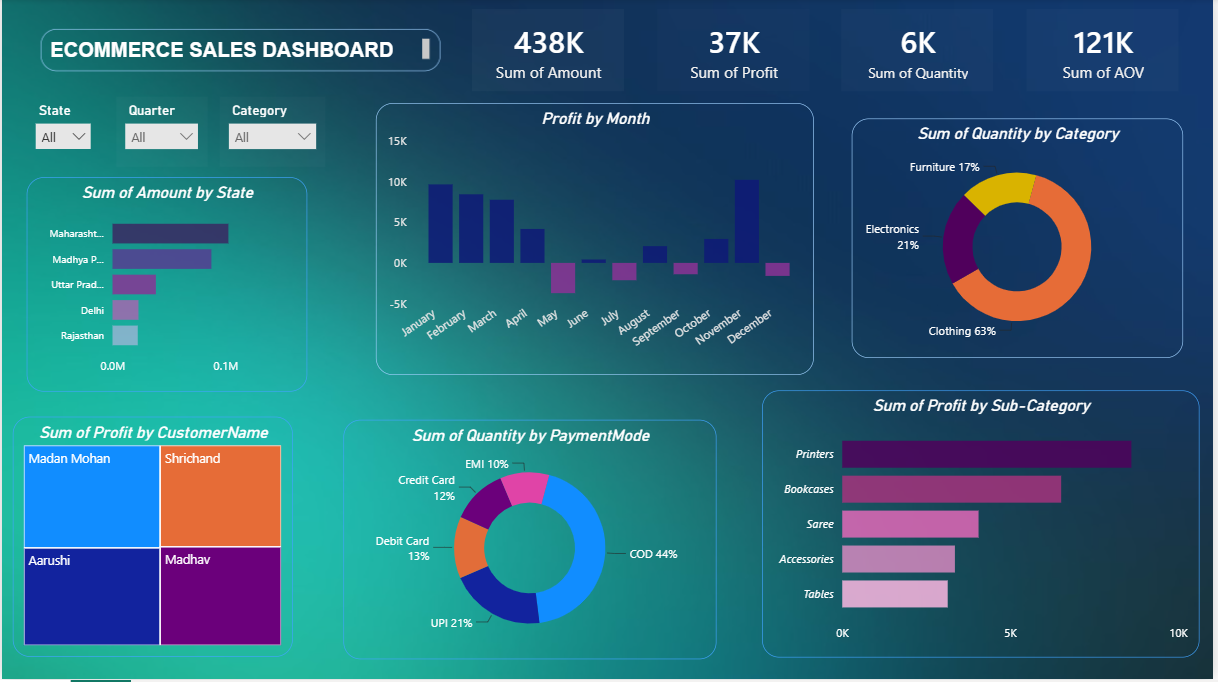

The dashboard page shown, as its layout file describes it:
{"tool":"powerbi","page":{"name":"Page 1","canvas":[1280,720],"ordinal":0},"visuals":[{"type":"textbox","box":[41.6,33.3,422.4,44.9],"z":0},{"type":"columnChart","title":"Profit  by Month","fields":{"Category":["Orders (2).Order Date.Variation.Date Hierarchy.Month"],"Y":["Sum(Details.Profit)"]},"box":[395.2,111.3,462.9,287.1],"z":1000},{"type":"barChart","fields":{"Category":["Details.Sub-Category"],"Y":["Sum(Details.Profit)"]},"box":[803.3,414.7,462.1,282.5],"z":2000},{"type":"donutChart","fields":{"Category":["Details.Category"],"Y":["Sum(Details.Quantity)"]},"box":[898.4,127.4,350,253.2],"z":3000},{"type":"donutChart","fields":{"Category":["Details.PaymentMode"],"Y":["Sum(Details.Quantity)"]},"box":[360.4,445.3,394.3,252.8],"z":4000},{"type":"cardVisual","fields":{"Data":["Sum(Details.Amount)"]},"box":[491.4,6.5,171.4,98],"z":5000},{"type":"cardVisual","fields":{"Data":["Sum(Details.Profit)"]},"box":[687.4,6.5,171.4,98],"z":6000},{"type":"cardVisual","fields":{"Data":["Sum(Details.Quantity)"]},"box":[881.7,6.5,171.4,98],"z":7000},{"type":"cardVisual","fields":{"Data":["Sum(Details.AOV)"]},"box":[1077.6,6.5,171.4,98],"z":8000},{"type":"slicer","fields":{"Values":["Details.Category"]},"box":[230.2,103.8,111.3,73.6],"z":9000},{"type":"barChart","fields":{"Category":["Orders (2).State"],"Y":["Sum(Details.Amount)"]},"box":[26.4,188.7,296.2,226.4],"z":10000},{"type":"treemap","fields":{"Group":["Orders (2).CustomerName"],"Values":["Sum(Details.Profit)"]},"box":[11,443,296,254],"z":11000},{"type":"slicer","fields":{"Values":["Orders (2).State"]},"box":[26.4,103.8,77.4,73.6],"z":12000},{"type":"slicer","fields":{"Values":["Orders (2).Order Date.Variation.Date Hierarchy.Quarter"]},"box":[120.8,103.8,96.2,73.6],"z":13000}]}

Visuals, with their boxes in screenshot pixels (x1, y1, x2, y2), scaled from the page's 1280x720 canvas onto the 1218x682 screenshot:
textbox: [x1=40, y1=32, x2=442, y2=74]
"Profit  by Month" columnChart: [x1=376, y1=105, x2=817, y2=377]
barChart - Details.Sub-Category x Sum(Details.Profit): [x1=764, y1=393, x2=1204, y2=660]
donutChart - Details.Category x Sum(Details.Quantity): [x1=855, y1=121, x2=1188, y2=361]
donutChart - Details.PaymentMode x Sum(Details.Quantity): [x1=343, y1=422, x2=718, y2=661]
cardVisual - Sum(Details.Amount): [x1=468, y1=6, x2=631, y2=99]
cardVisual - Sum(Details.Profit): [x1=654, y1=6, x2=817, y2=99]
cardVisual - Sum(Details.Quantity): [x1=839, y1=6, x2=1002, y2=99]
cardVisual - Sum(Details.AOV): [x1=1025, y1=6, x2=1189, y2=99]
slicer - Details.Category: [x1=219, y1=98, x2=325, y2=168]
barChart - Orders (2).State x Sum(Details.Amount): [x1=25, y1=179, x2=307, y2=393]
treemap - Orders (2).CustomerName x Sum(Details.Profit): [x1=10, y1=420, x2=292, y2=660]
slicer - Orders (2).State: [x1=25, y1=98, x2=99, y2=168]
slicer - Orders (2).Order Date.Variation.Date Hierarchy.Quarter: [x1=115, y1=98, x2=206, y2=168]
